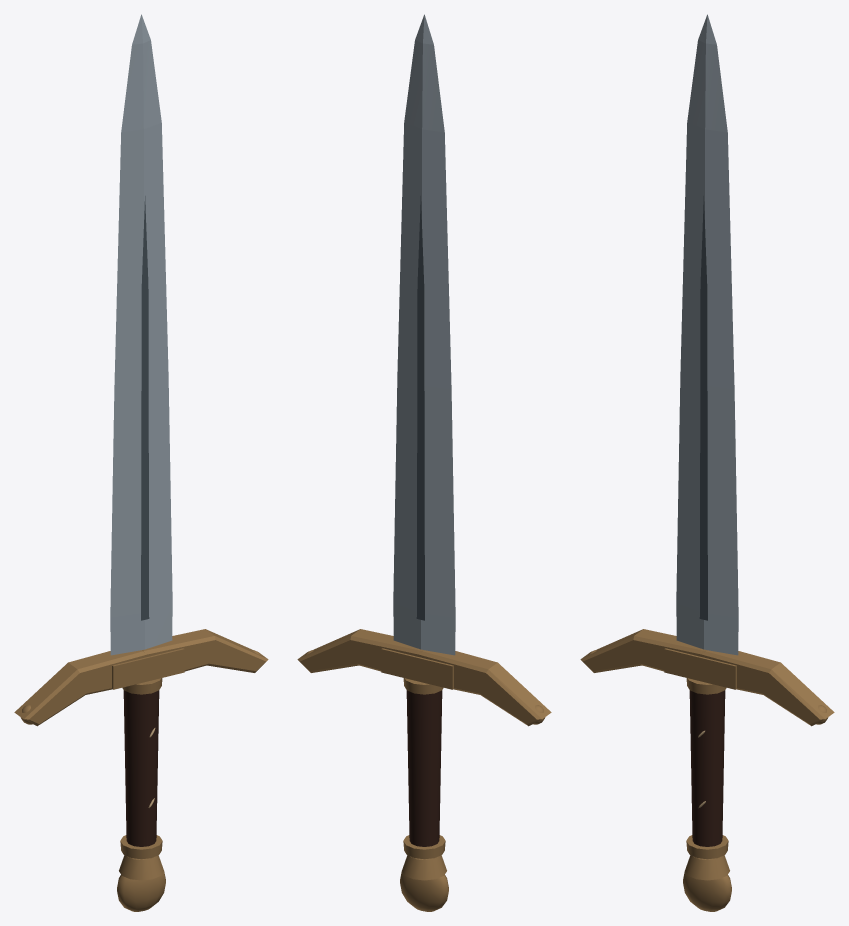
The model's file is longsword.lod2.glb.
The picture shows the model from 3 angles, left to right: view 1: azimuth 30°, elevation 25°; view 2: azimuth 150°, elevation 25°; view 3: azimuth 330°, elevation 25°; orthographic projection.
Parts seen in each view (by area): view 1: blade, grip, quillon.-1, fuller.1, quillon.1, guard block, wheel pommel, pommel neck, grip collar; view 2: blade, grip, quillon.-1, fuller.-1, quillon.1, guard block, wheel pommel, pommel neck, grip collar; view 3: blade, grip, quillon.1, fuller.1, quillon.-1, guard block, wheel pommel, pommel neck, grip collar.
Boxes of the visible parts, left/top/right/bottom form: blade: left=110, top=14, right=172, bottom=655; grip: left=123, top=690, right=159, bottom=846; quillon.-1: left=14, top=648, right=148, bottom=726; fuller.1: left=141, top=196, right=149, bottom=620; quillon.1: left=142, top=629, right=268, bottom=672; guard block: left=112, top=648, right=184, bottom=689; wheel pommel: left=117, top=871, right=165, bottom=911; pommel neck: left=119, top=855, right=163, bottom=880; grip collar: left=120, top=835, right=162, bottom=859; blade: left=393, top=14, right=455, bottom=655; grip: left=406, top=690, right=442, bottom=846; quillon.-1: left=417, top=648, right=551, bottom=726; fuller.-1: left=416, top=196, right=424, bottom=620; quillon.1: left=297, top=629, right=423, bottom=672; guard block: left=381, top=648, right=453, bottom=689; wheel pommel: left=400, top=871, right=448, bottom=911; pommel neck: left=402, top=855, right=446, bottom=880; grip collar: left=403, top=835, right=445, bottom=859; blade: left=676, top=14, right=738, bottom=655; grip: left=689, top=690, right=725, bottom=846; quillon.1: left=700, top=648, right=834, bottom=726; fuller.1: left=699, top=196, right=707, bottom=620; quillon.-1: left=580, top=629, right=706, bottom=672; guard block: left=664, top=648, right=736, bottom=689; wheel pommel: left=683, top=871, right=731, bottom=911; pommel neck: left=685, top=855, right=729, bottom=880; grip collar: left=686, top=835, right=728, bottom=859.
Bounding box in the file's own units: 0.3613 × 1.26 × 0.058.
